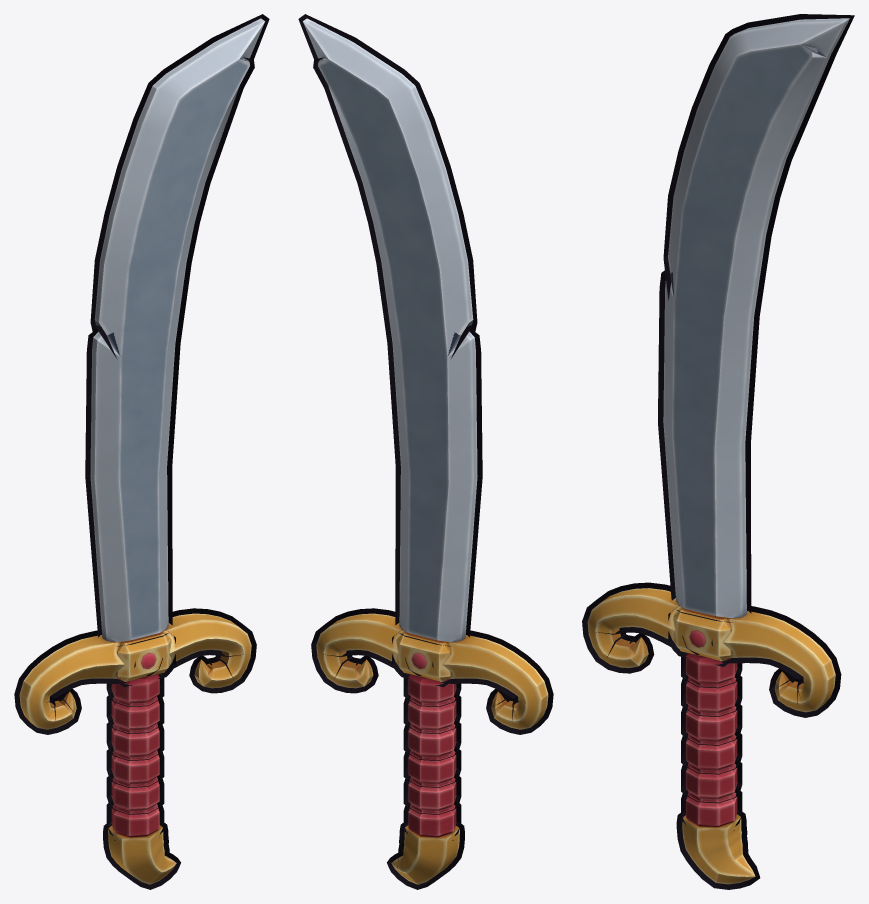
Rendered from Scimitar.fbx.
The picture shows the model from 3 angles, left to right: view 1: azimuth 30°, elevation 25°; view 2: azimuth 150°, elevation 25°; view 3: azimuth 330°, elevation 25°; orthographic projection. The views are drawn at different scales.
Parts seen in each view (by area): view 1: Scimitar, ScimitarOutline; view 2: Scimitar, ScimitarOutline; view 3: Scimitar, ScimitarOutline.
Boxes of the visible parts, x1,y1,x2,y2 form: Scimitar: (19, 18, 264, 884); ScimitarOutline: (14, 14, 269, 889); Scimitar: (303, 18, 548, 884); ScimitarOutline: (298, 14, 553, 889); Scimitar: (587, 18, 849, 884); ScimitarOutline: (582, 14, 854, 889).
Bounding box in the file's own units: 120 × 390 × 30.4.
2 materials, 1 textured.
